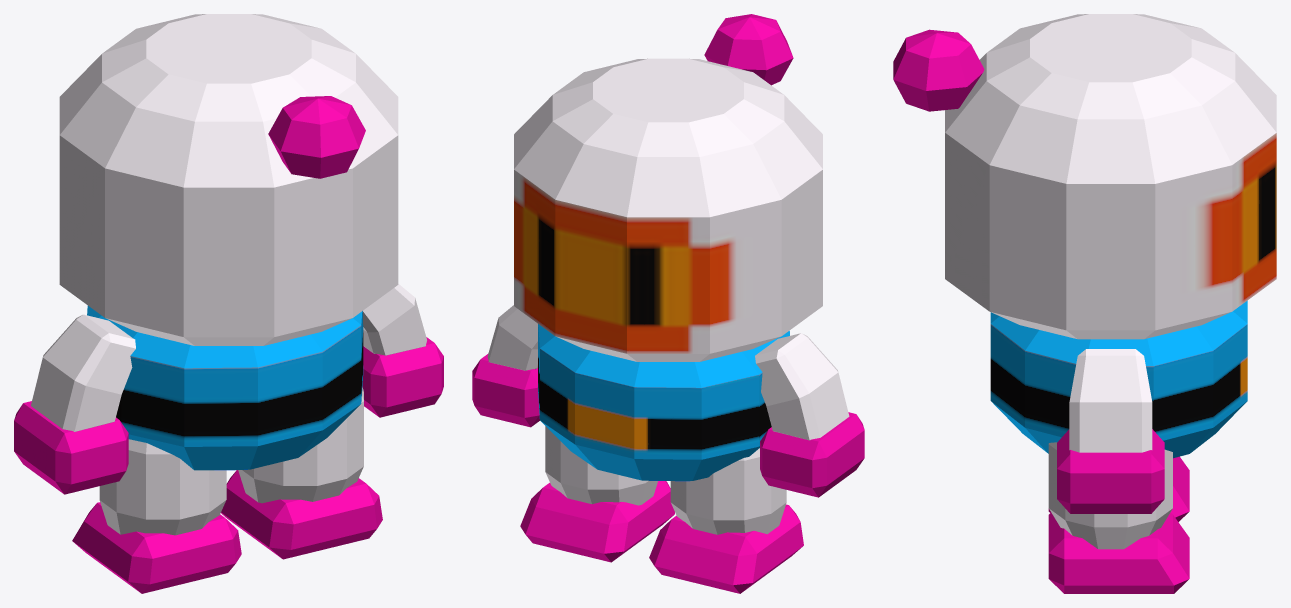
Rendered from bombermandynablaster_tg-16pce.glb.
3 renders of one model, left to right at view 1: azimuth 30°, elevation 25°; view 2: azimuth 150°, elevation 25°; view 3: azimuth 270°, elevation 25°, orthographic. The views are drawn at different scales.
Visible parts, largest first — view 1: cylinder, cylinder_1, beveled_cuboid_3, cylinder_2, beveled_cuboid_4, beveled_cuboid_5, beveled_cuboid_2, cylinder_3, sphere_1, beveled_cuboid_1, beveled_cuboid; view 2: cylinder, cylinder_1, beveled_cuboid_4, beveled_cuboid_5, beveled_cuboid_3, cylinder_2, beveled_cuboid_2, sphere_1, cylinder_3, beveled_cuboid_1, beveled_cuboid; view 3: cylinder, cylinder_1, beveled_cuboid_5, beveled_cuboid, beveled_cuboid_1, sphere_1, cylinder_3, beveled_cuboid_4.
Boxes of the visible parts, left/top/right/bottom form: cylinder: left=59, top=14, right=398, bottom=345; cylinder_1: left=87, top=305, right=363, bottom=470; beveled_cuboid_3: left=31, top=314, right=135, bottom=431; cylinder_2: left=99, top=439, right=226, bottom=535; beveled_cuboid_4: left=72, top=502, right=241, bottom=593; beveled_cuboid_5: left=221, top=470, right=382, bottom=559; beveled_cuboid_2: left=14, top=401, right=128, bottom=494; cylinder_3: left=238, top=387, right=363, bottom=503; sphere_1: left=268, top=96, right=365, bottom=178; beveled_cuboid_1: left=362, top=337, right=443, bottom=417; beveled_cuboid: left=363, top=284, right=426, bottom=355; cylinder: left=514, top=58, right=822, bottom=361; cylinder_1: left=538, top=324, right=789, bottom=481; beveled_cuboid_4: left=649, top=504, right=803, bottom=593; beveled_cuboid_5: left=520, top=481, right=674, bottom=562; beveled_cuboid_3: left=755, top=333, right=849, bottom=440; cylinder_2: left=670, top=448, right=786, bottom=534; beveled_cuboid_2: left=760, top=412, right=864, bottom=497; sphere_1: left=704, top=14, right=793, bottom=85; cylinder_3: left=545, top=426, right=657, bottom=505; beveled_cuboid_1: left=472, top=354, right=539, bottom=427; beveled_cuboid: left=487, top=305, right=537, bottom=370; cylinder: left=945, top=14, right=1276, bottom=339; cylinder_1: left=990, top=300, right=1247, bottom=458; beveled_cuboid_5: left=1048, top=512, right=1189, bottom=593; beveled_cuboid: left=1069, top=349, right=1152, bottom=452; beveled_cuboid_1: left=1057, top=429, right=1164, bottom=513; sphere_1: left=893, top=29, right=984, bottom=111; cylinder_3: left=1048, top=442, right=1172, bottom=549; beveled_cuboid_4: left=1048, top=456, right=1189, bottom=521.
Size of the model in its own units: 0.6625 by 0.8406 by 0.5781.
Materials: 1 (1 with a texture image).
